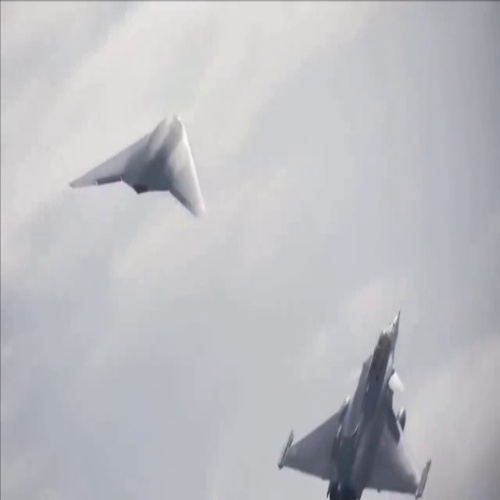uav886: (68, 103, 207, 225)
